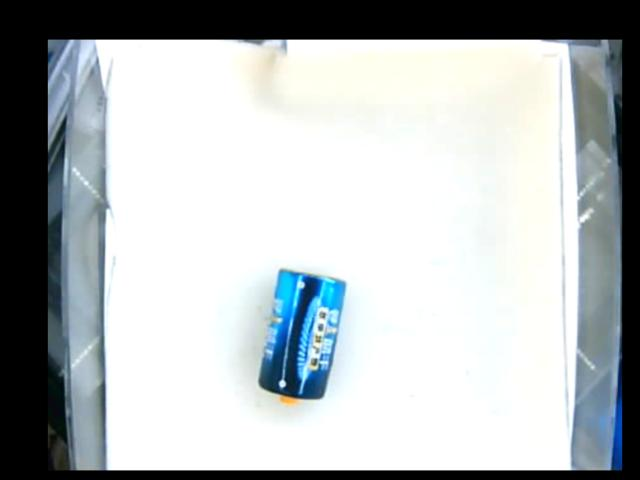Battery: (256, 266, 346, 407)
